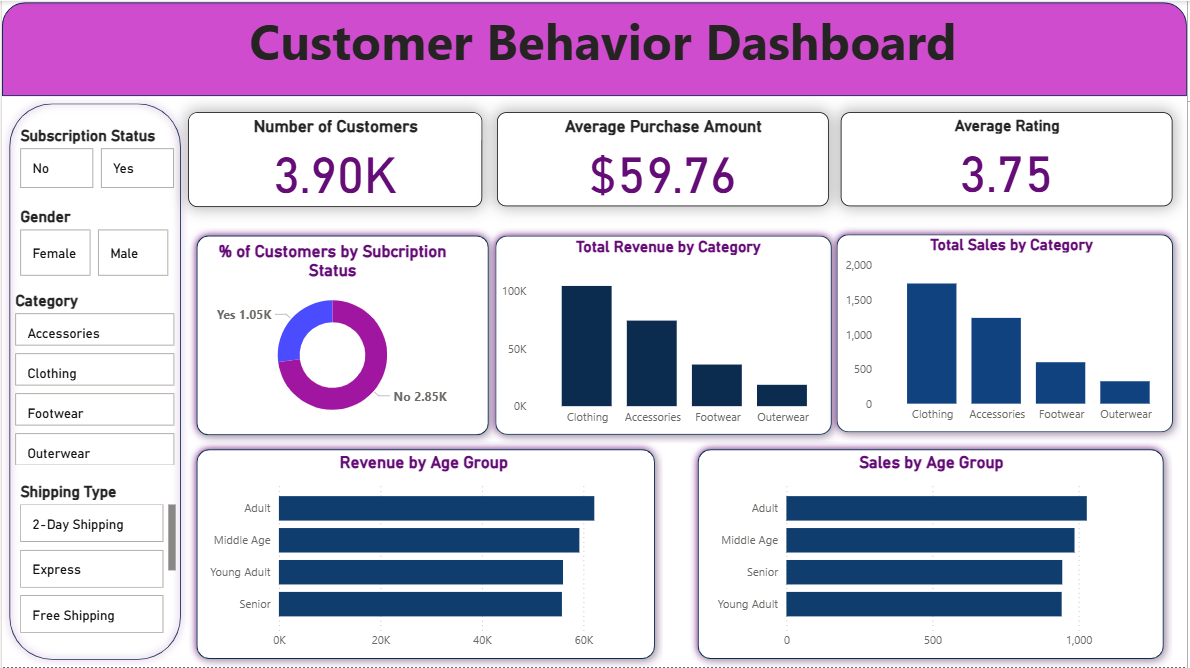

The page's visual inventory and layout, read from the dashboard file:
{"tool":"powerbi","page":{"name":"Page 1","canvas":[1280,720],"ordinal":0},"visuals":[{"type":"card","title":"Number of Customers","fields":{"Values":["CountNonNull(customer_shopping_behavior customer.customer_id)"]},"box":[201.2,120.2,317.4,102.6],"z":0},{"type":"card","title":"Average Purchase Amount","fields":{"Values":["Avg(customer_shopping_behavior customer.purchase_amount)"]},"box":[535.2,120.8,358.1,101.5],"z":1000},{"type":"card","title":"Average Rating","fields":{"Values":["Avg(customer_shopping_behavior customer.review_rating)"]},"box":[905.7,120.8,358.1,101.5],"z":2000},{"type":"shape","box":[0,1.4,1280.3,101.5],"z":2001},{"type":"textbox","box":[109.8,1.4,1079.9,101.5],"z":2002},{"type":"shape","box":[201.2,244.4,333.6,233.6],"z":2003},{"type":"shape","box":[524.2,244.3,381.5,233.3],"z":2004},{"type":"shape","box":[893.3,242.9,381.5,231.9],"z":2005},{"type":"donutChart","title":"% of Customers by Subcription Status","fields":{"Category":["customer_shopping_behavior customer.subscription_status"],"Y":["Count(customer_shopping_behavior customer.customer_id)"]},"box":[201.2,259.3,312,205.3],"z":2006},{"type":"clusteredColumnChart","title":"Total Revenue by Category","fields":{"Y":["Sum(customer_shopping_behavior customer.purchase_amount)"],"Category":["customer_shopping_behavior customer.category"]},"box":[535.2,255.2,370.5,212.7],"z":2007},{"type":"clusteredColumnChart","title":"Total Sales by Category","fields":{"Category":["customer_shopping_behavior customer.category"],"Y":["Count(customer_shopping_behavior customer.customer_id)"]},"box":[905.7,252.5,369.1,212.7],"z":2008},{"type":"shape","box":[0,102.6,201.2,617.2],"z":2009},{"type":"advancedSlicerVisual","title":"Subscription Status","fields":{"Values":["customer_shopping_behavior customer.subscription_status"]},"box":[14.9,135.1,176.9,72.9],"z":2010},{"type":"advancedSlicerVisual","title":"Gender","fields":{"Values":["customer_shopping_behavior customer.gender"]},"box":[14.9,222.8,170.2,79.7],"z":2011},{"type":"advancedSlicerVisual","title":"Category","fields":{"Values":["customer_shopping_behavior customer.category"]},"box":[9.5,313.3,182.3,195.8],"z":2012},{"type":"advancedSlicerVisual","title":"Shipping Type","fields":{"Values":["customer_shopping_behavior customer.shipping_type"]},"box":[14.9,519.9,178.3,170.2],"z":2013},{"type":"shape","box":[201.2,475.4,513.2,244.4],"z":2015},{"type":"clusteredBarChart","title":"Revenue by Age Group","fields":{"Y":["Sum(customer_shopping_behavior customer.purchase_amount)"],"Category":["customer_shopping_behavior customer.age_group"]},"box":[213.4,487.5,484.8,221.5],"z":2016},{"type":"shape","box":[742.8,475.4,521.3,244.4],"z":2017},{"type":"clusteredBarChart","title":"Sales by Age Group","fields":{"Category":["customer_shopping_behavior customer.age_group"],"Y":["CountNonNull(customer_shopping_behavior customer.customer_id)"]},"box":[761.7,487.5,484.8,221.5],"z":2018}]}

Visuals, with their boxes in screenshot pixels (x1, y1, x2, y2), scaled from the page's 1280x720 canvas onto the 1190x668 screenshot:
"Number of Customers" card: 187/112/482/207
"Average Purchase Amount" card: 498/112/830/206
"Average Rating" card: 842/112/1175/206
shape: 0/1/1189/95
textbox: 102/1/1106/95
shape: 187/227/497/443
shape: 487/227/842/443
shape: 830/225/1185/441
"% of Customers by Subcription Status" donutChart: 187/241/477/431
"Total Revenue by Category" clusteredColumnChart: 498/237/842/434
"Total Sales by Category" clusteredColumnChart: 842/234/1185/432
shape: 0/95/187/667
"Subscription Status" advancedSlicerVisual: 14/125/178/193
"Gender" advancedSlicerVisual: 14/207/172/281
"Category" advancedSlicerVisual: 9/291/178/472
"Shipping Type" advancedSlicerVisual: 14/482/180/640
shape: 187/441/664/667
"Revenue by Age Group" clusteredBarChart: 198/452/649/658
shape: 691/441/1175/667
"Sales by Age Group" clusteredBarChart: 708/452/1159/658
